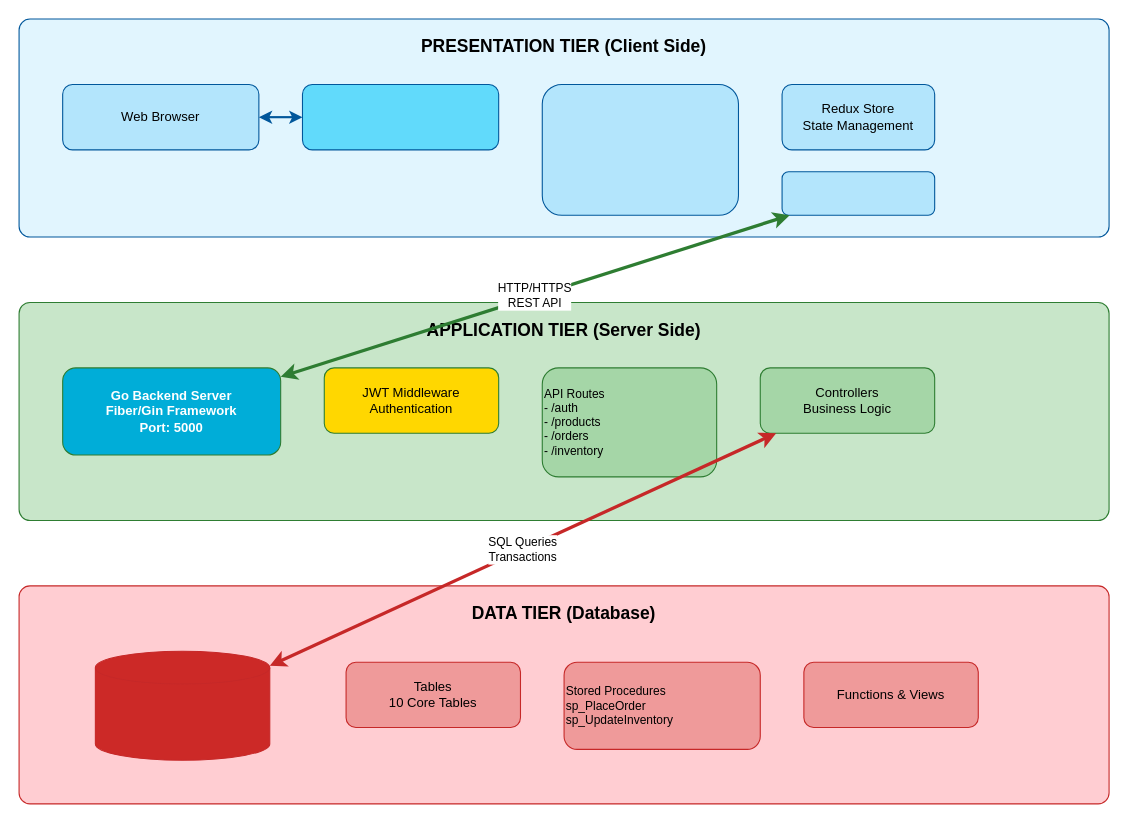
The diagram is 1128 pixels wide and 823 high, and some of its shapes have lost their labels. The shapes that lost their labels are listed below. From the top down, each one's box as (x1, y1, x2, y2) in pixels, then its label:
(301, 83, 499, 150): React Application Port: 3000
(541, 83, 738, 215): UI Components - Login/Register - Product Catalog - Order Management - Dashboard
(781, 171, 935, 215): Axios HTTP Client
(94, 650, 270, 760): MS SQL Server ISDN_DB
